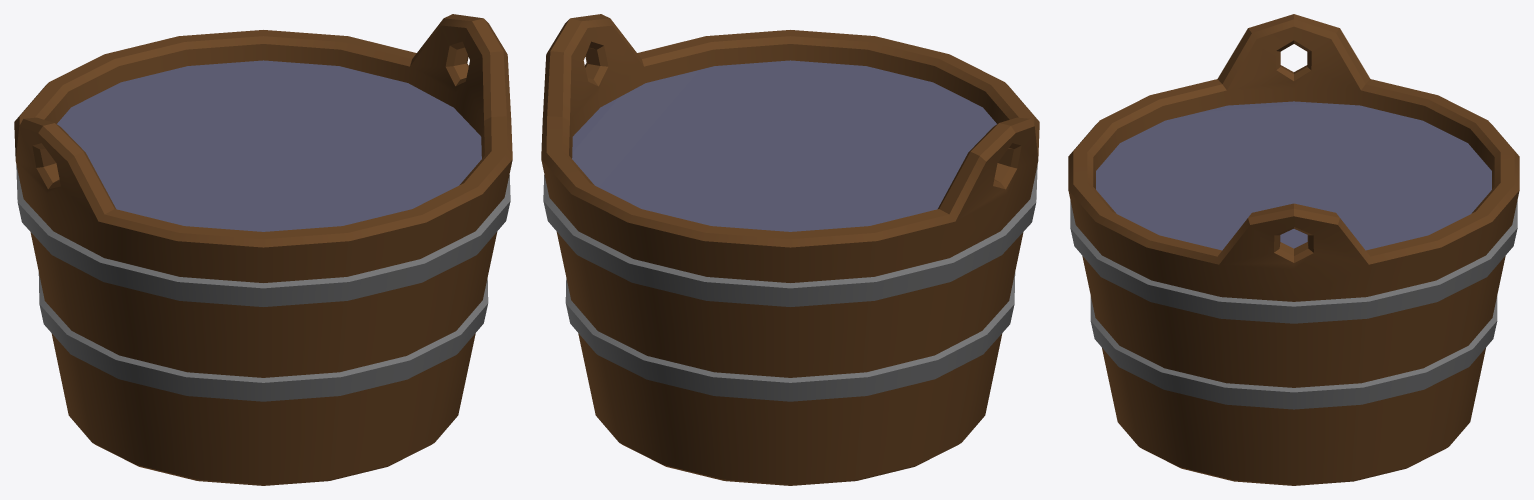
File: Wooden_Tub.gltf
The picture shows the model from 3 angles, left to right: view 1: azimuth 30°, elevation 25°; view 2: azimuth 150°, elevation 25°; view 3: azimuth 270°, elevation 25°; orthographic projection. The views are drawn at different scales.
Visible parts, largest first — view 1: Wooden_Tub, Wooden_Tub_Water; view 2: Wooden_Tub, Wooden_Tub_Water; view 3: Wooden_Tub, Wooden_Tub_Water.
Boxes of the visible parts, box(x1,y1,x2,y2) form: Wooden_Tub: box(14, 14, 512, 485); Wooden_Tub_Water: box(57, 60, 481, 231); Wooden_Tub: box(541, 14, 1039, 485); Wooden_Tub_Water: box(572, 60, 996, 231); Wooden_Tub: box(1068, 14, 1519, 485); Wooden_Tub_Water: box(1096, 101, 1491, 250).
Size of the model in its own units: 110 by 77.58 by 106.
Materials: 2 (2 with a texture image).
